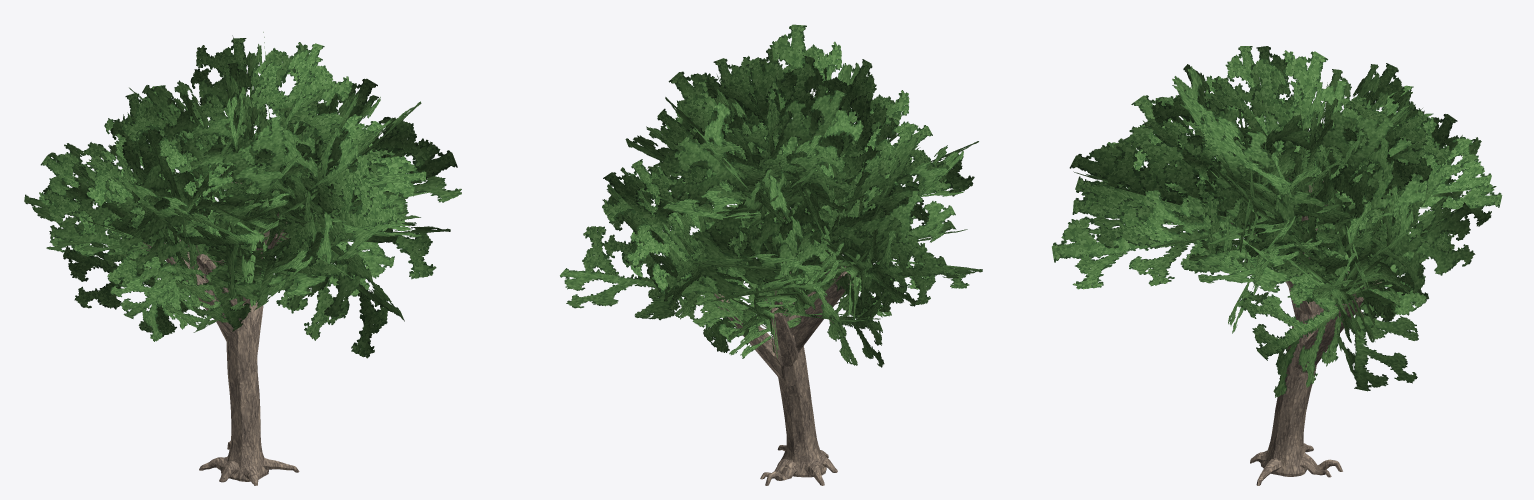
File: environment_elm4_v76.fbx
3 renders of one model, left to right at view 1: azimuth 30°, elevation 25°; view 2: azimuth 150°, elevation 25°; view 3: azimuth 270°, elevation 25°, orthographic. The views are drawn at different scales.
Parts seen in each view (by area): view 1: environment_elm4_v76_lod0; view 2: environment_elm4_v76_lod0; view 3: environment_elm4_v76_lod0.
Boxes of the visible parts, x1,y1,x2,y2 form: environment_elm4_v76_lod0: [24, 32, 461, 485]; environment_elm4_v76_lod0: [560, 24, 982, 485]; environment_elm4_v76_lod0: [1052, 46, 1502, 485].
Size of what is drawn, in the model's own units: 2365 by 2526 by 2437.
Materials: 2 (2 with a texture image).
